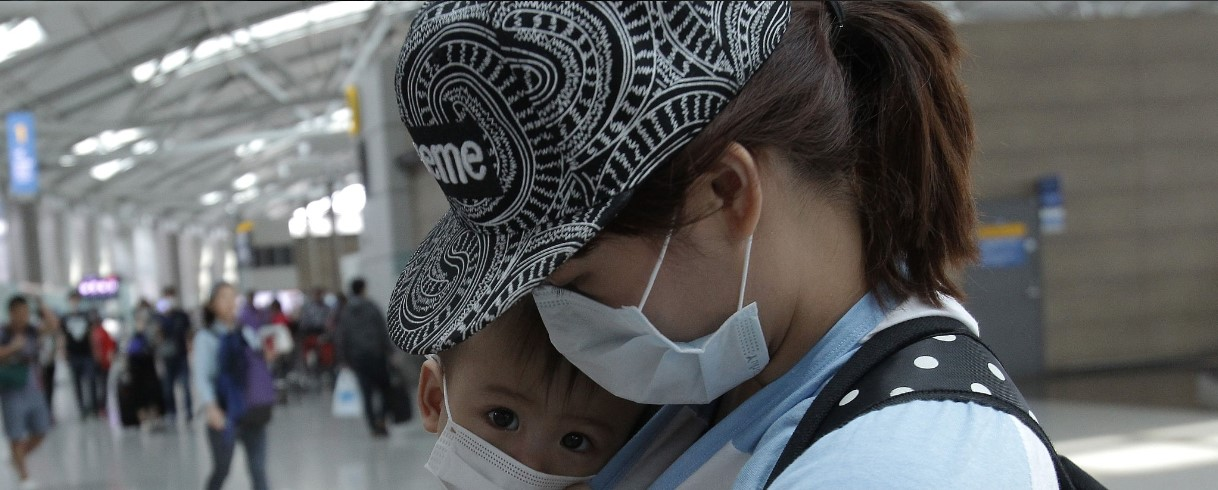face_with_mask: (509, 4, 808, 428), (419, 294, 632, 489)
